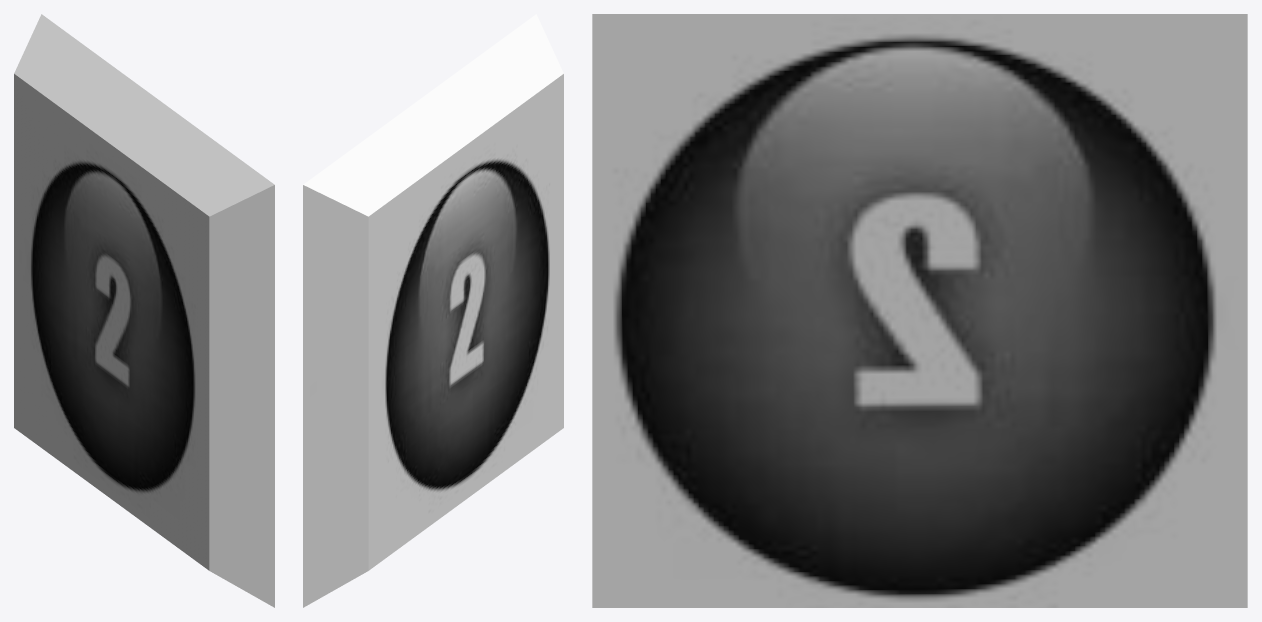
The picture shows the model from 3 angles, left to right: view 1: azimuth 30°, elevation 25°; view 2: azimuth 150°, elevation 25°; view 3: azimuth 270°, elevation 25°; orthographic projection. The views are drawn at different scales.
Parts seen in each view (by area): view 1: Cubo.038; view 2: Cubo.038; view 3: Cubo.038.
Boxes of the visible parts, bbox=[...] form: Cubo.038: bbox=[14, 14, 274, 607]; Cubo.038: bbox=[303, 14, 563, 607]; Cubo.038: bbox=[592, 14, 1247, 607].
Size of the model in its own units: 0.0153 by 0.1334 by 0.1333.
1 material, 1 textured.
